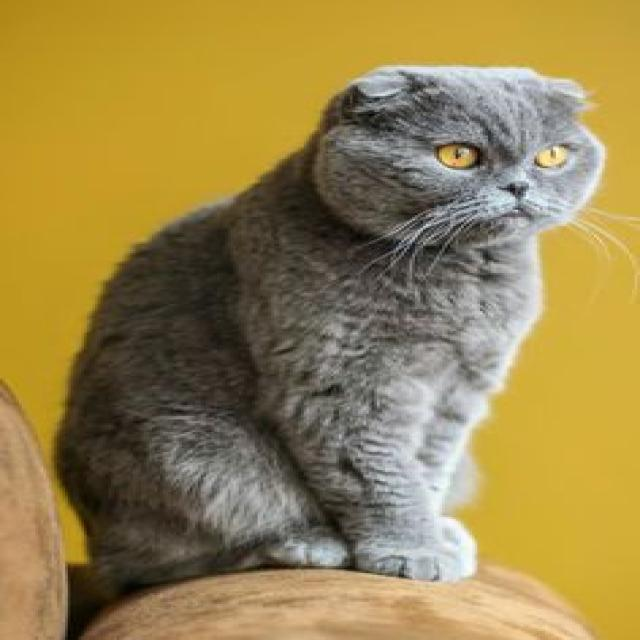british shorthair: (24, 65, 640, 640)
